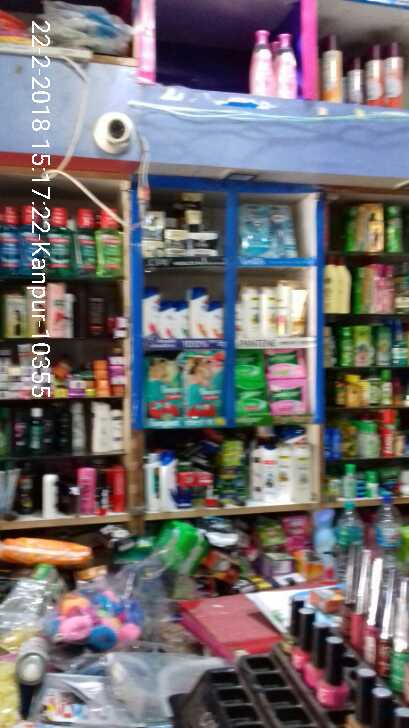venus: (240, 204, 271, 257), (271, 205, 295, 257)
